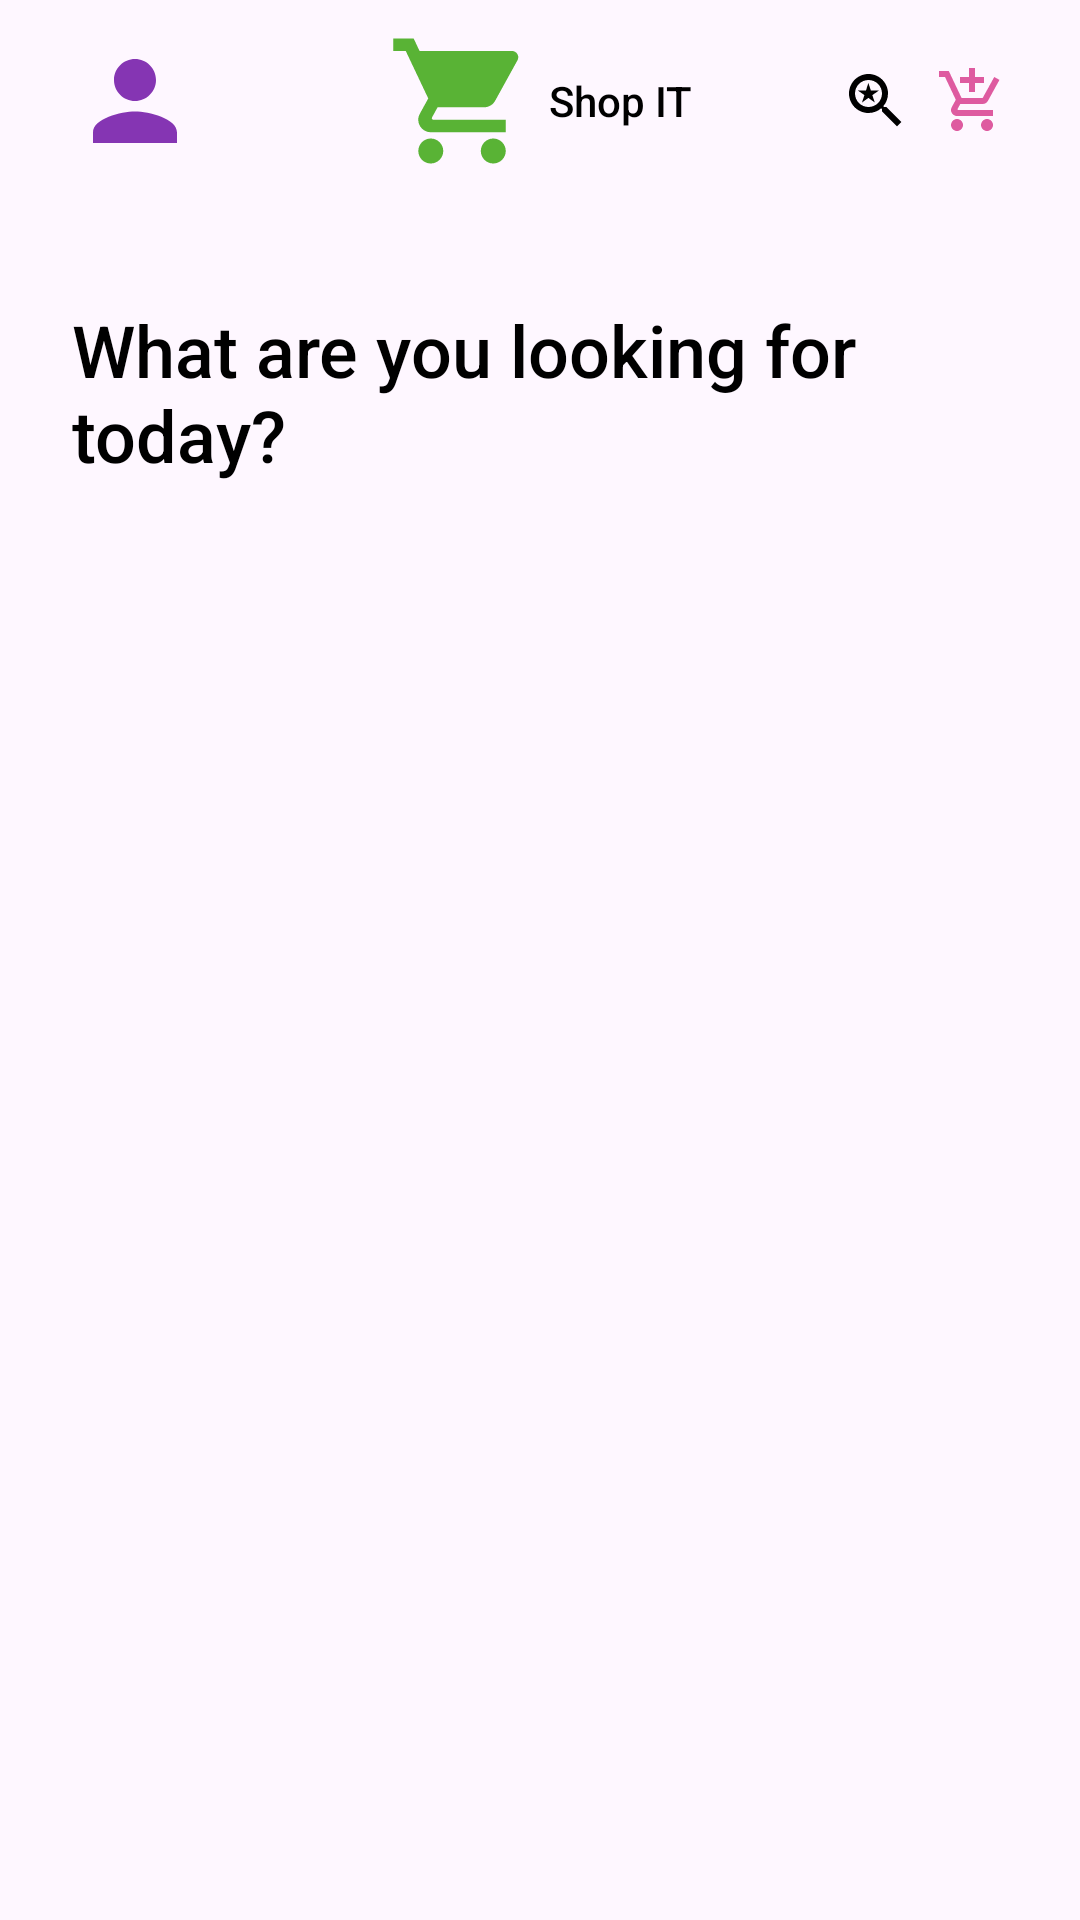

Icon bounding boxes for this 1080x1920 phone screenshot, format BBox(x1, y1, x2, y2):
avater: BBox(93, 59, 177, 143)
search: BBox(849, 74, 901, 126)
